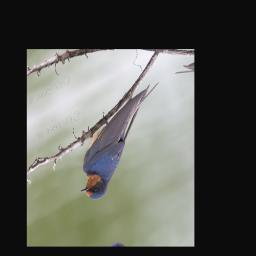Swallow: (63, 78, 180, 209)
